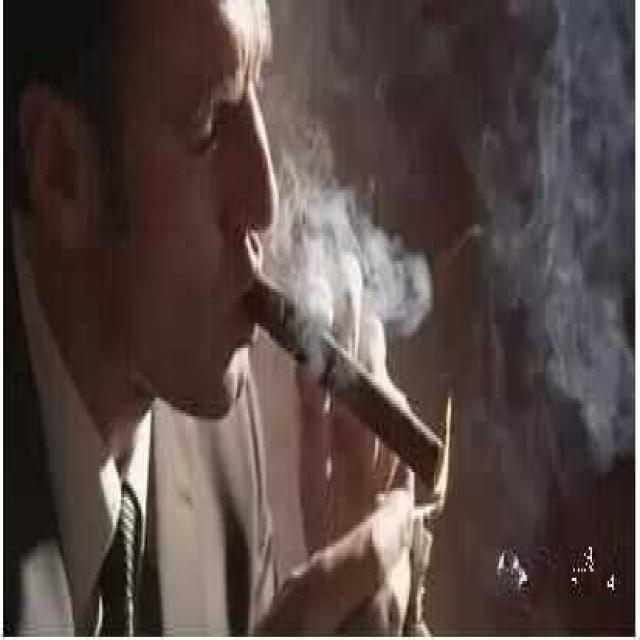Smooking: (240, 257, 464, 511)
